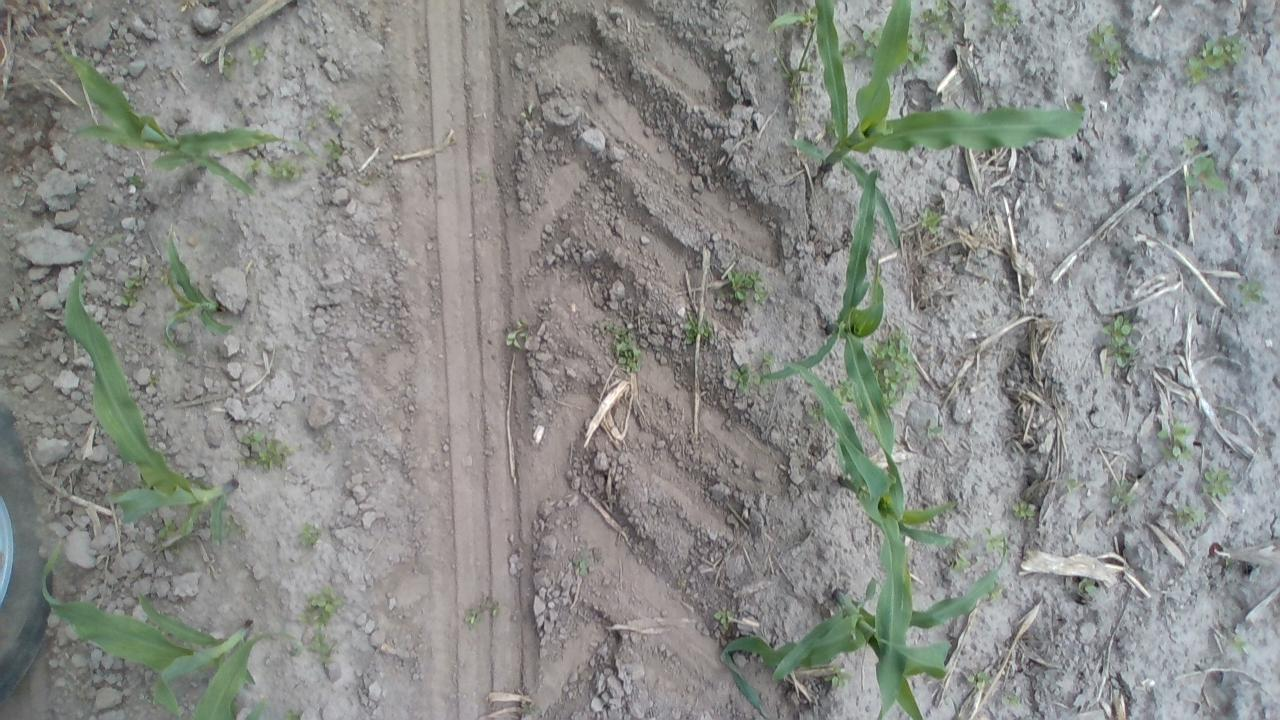Maize: (794, 0, 1090, 250), (786, 367, 968, 717), (62, 236, 235, 560), (768, 167, 914, 520), (33, 550, 304, 718), (711, 576, 1013, 718), (53, 40, 322, 199), (184, 626, 304, 720), (156, 227, 237, 341), (764, 4, 820, 42)
Weeds: (769, 44, 820, 124), (874, 331, 919, 411), (1186, 32, 1246, 86), (1100, 312, 1141, 373), (236, 428, 292, 472), (1084, 22, 1126, 80), (296, 586, 348, 630), (606, 322, 644, 376), (1156, 418, 1196, 465), (724, 265, 766, 308), (1184, 154, 1225, 194), (462, 590, 501, 629), (918, 1, 956, 38), (984, 0, 1024, 33), (680, 310, 714, 347), (1201, 463, 1235, 499), (307, 628, 335, 668), (116, 274, 145, 310), (266, 156, 304, 182), (907, 33, 933, 70), (850, 27, 880, 59), (503, 318, 532, 350), (916, 207, 945, 238), (946, 541, 974, 573), (1238, 274, 1264, 306), (824, 662, 851, 692), (966, 664, 994, 692), (1107, 479, 1135, 507), (982, 527, 1009, 556), (571, 548, 597, 578), (730, 360, 754, 391), (299, 520, 323, 550), (756, 346, 779, 377), (1176, 505, 1204, 528), (833, 376, 857, 402), (153, 518, 180, 541), (323, 138, 346, 164), (804, 397, 826, 424), (1012, 500, 1038, 522), (922, 420, 947, 442), (222, 519, 248, 540), (712, 608, 736, 629), (1076, 576, 1098, 598), (985, 582, 1006, 605), (516, 700, 544, 717), (1180, 134, 1201, 156), (1001, 686, 1023, 707), (248, 43, 268, 66), (242, 158, 264, 178), (326, 102, 344, 126), (125, 172, 146, 192), (1228, 635, 1250, 654), (517, 103, 537, 122), (315, 438, 335, 456), (1064, 474, 1082, 494), (221, 50, 237, 72), (472, 167, 491, 185), (284, 704, 306, 718), (1134, 153, 1150, 172), (442, 131, 458, 149), (155, 270, 170, 288), (359, 177, 377, 190), (826, 119, 838, 138), (306, 120, 320, 136), (148, 370, 160, 388), (1225, 557, 1239, 571)
